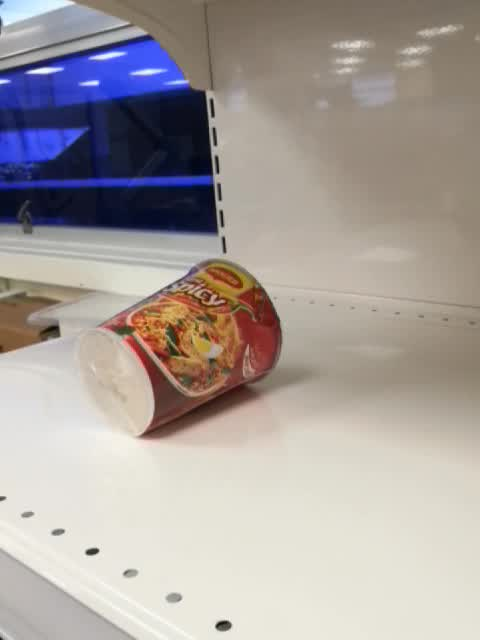maggi: (73, 257, 284, 439)
